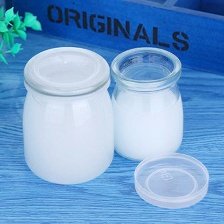bottle: (21, 43, 117, 189), (109, 43, 192, 162)
